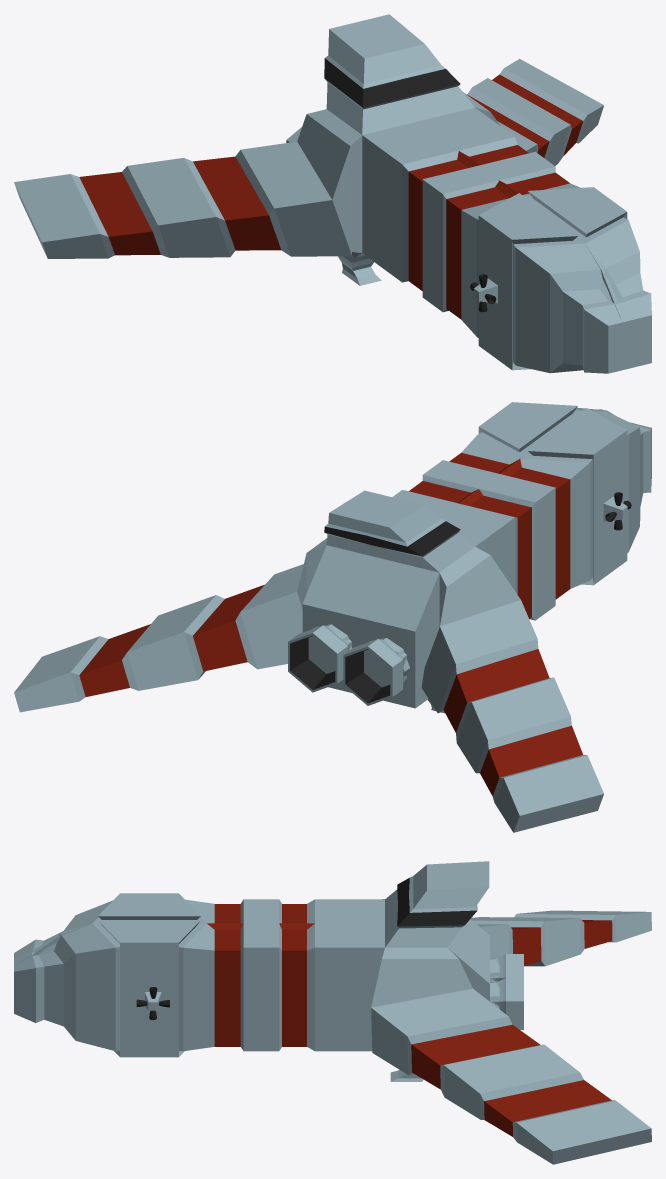
Rendered from spaceship2.glb.
3 renders of one model, top to bottom at view 1: azimuth 30°, elevation 25°; view 2: azimuth 150°, elevation 25°; view 3: azimuth 270°, elevation 25°, orthographic. The views are drawn at different scales.
Visible parts, largest first — view 1: Cube; view 2: Cube, mainThruster2, mainThruster1; view 3: Cube, mainThruster1, mainThruster2.
Part boxes in pixels (x1,y1,x2,y2): Cube: [14, 14, 651, 373]; Cube: [14, 402, 651, 832]; mainThruster2: [343, 639, 406, 705]; mainThruster1: [288, 625, 351, 692]; Cube: [14, 861, 651, 1164]; mainThruster1: [490, 977, 523, 1029]; mainThruster2: [490, 954, 523, 981].
Bounding box in the file's own units: 9.96 × 3.55 × 11.15.
Materials: 2 (2 with a texture image).
